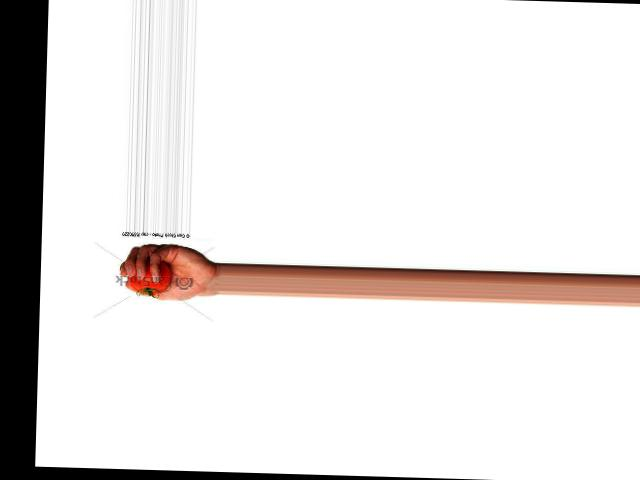tomato: (127, 257, 170, 295)
